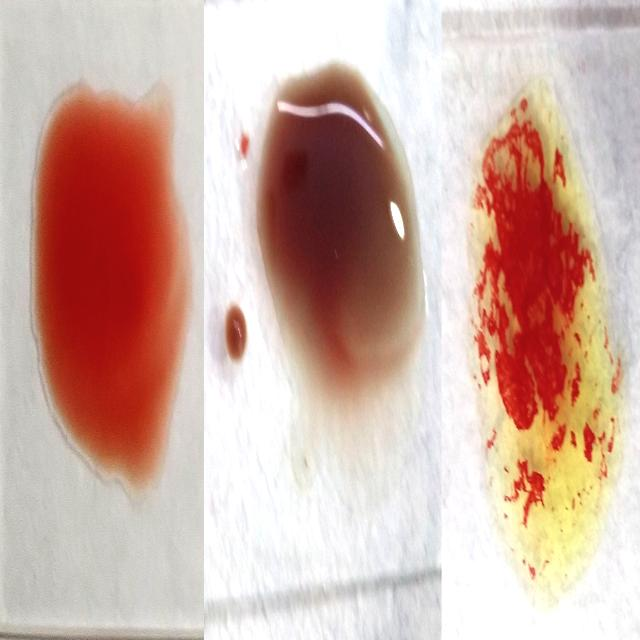B: (472, 86, 610, 594)
